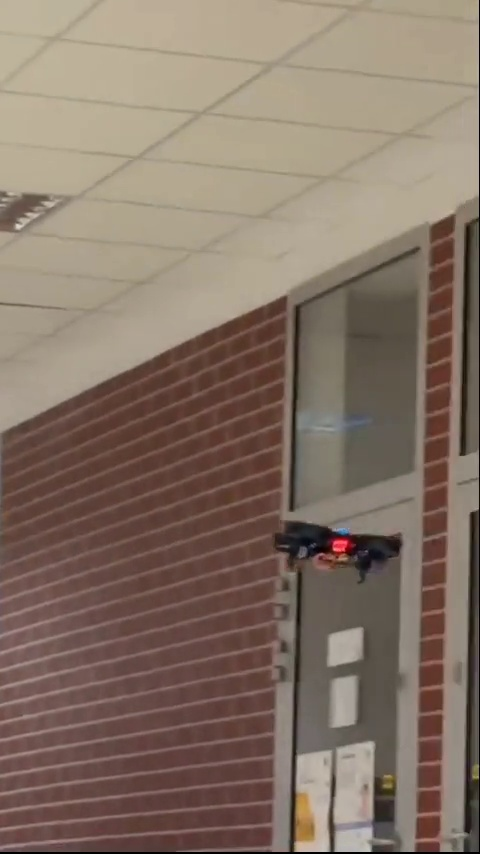drone: (271, 518, 397, 577)
